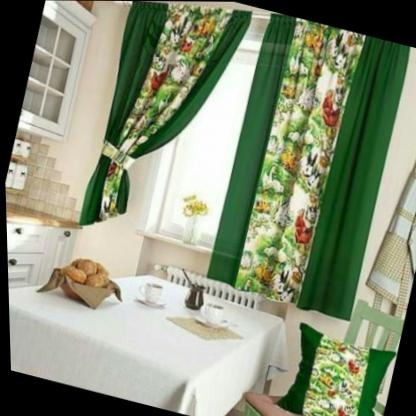Curtains: (205, 11, 411, 320), (67, 0, 259, 262)
